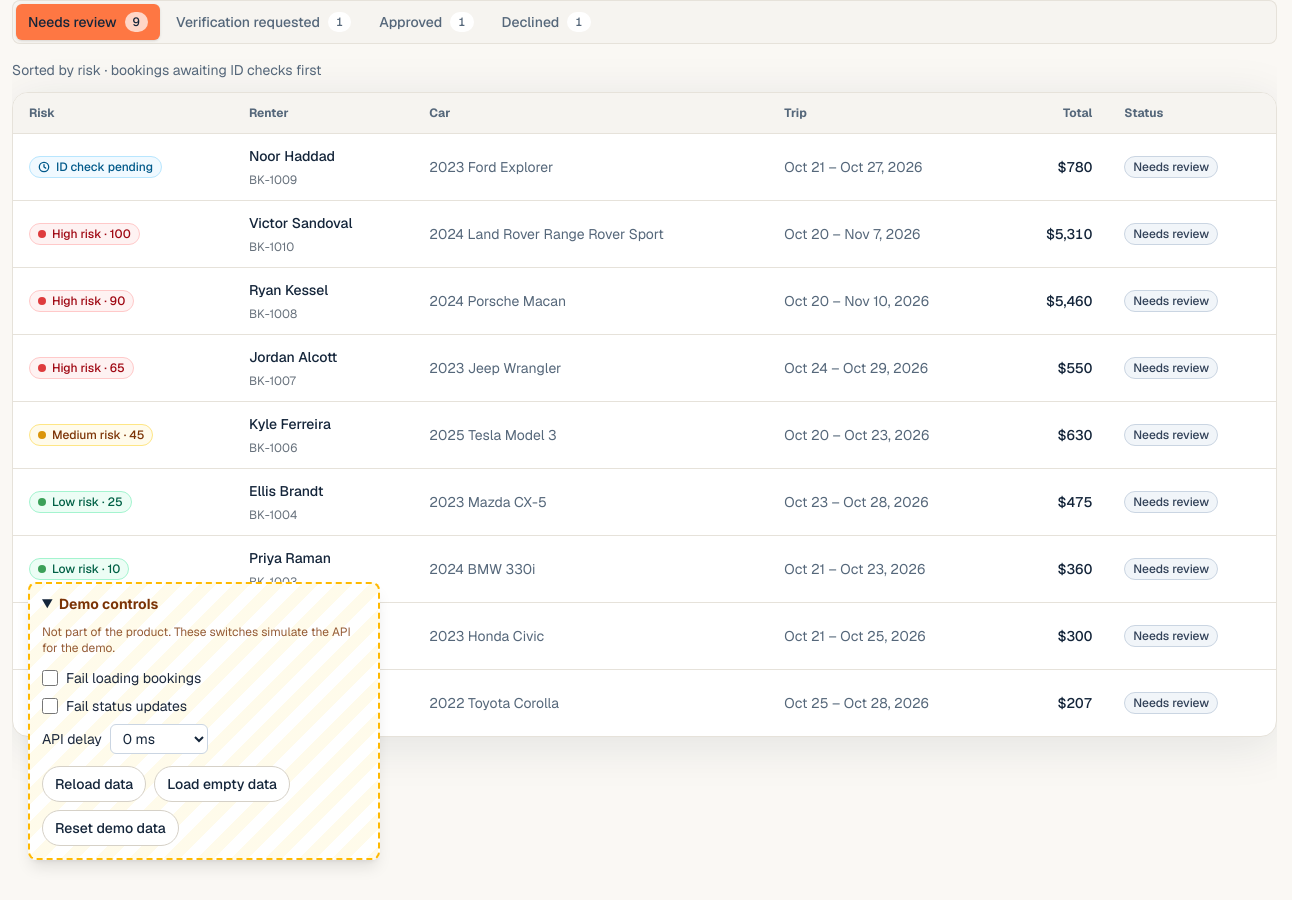
Test: RiskReviewPage › shows the sort hint only on the Needs review tab
The width and height of the screenshot is (1292, 900).
Click the tab "Declined 1".
click(546, 22)  # box x1=490 y1=4 x2=603 y2=40
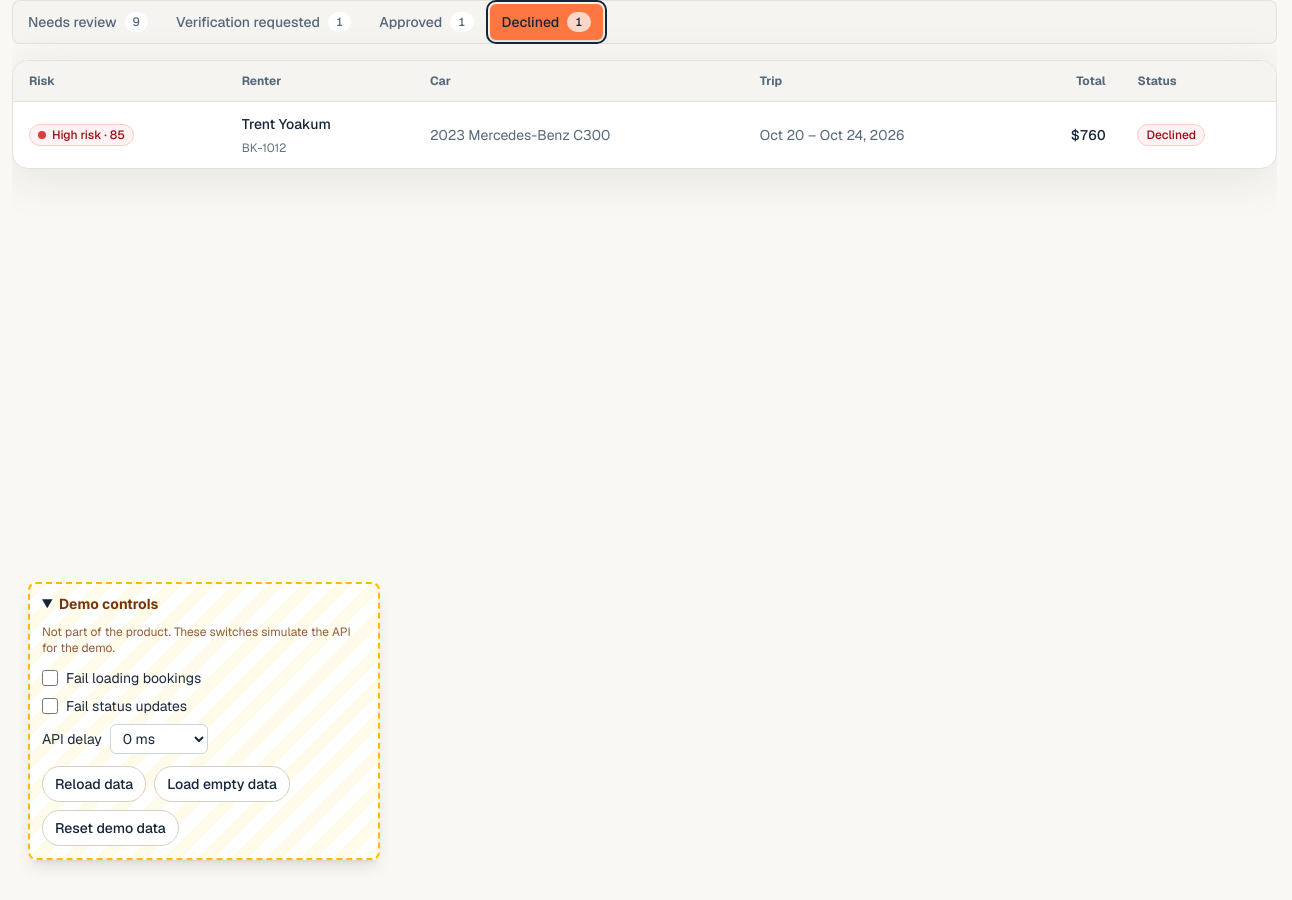
expect the table is shown: met, box x1=13 y1=61 x2=1276 y2=168
expect the text "Sorted by risk" is gone: met
